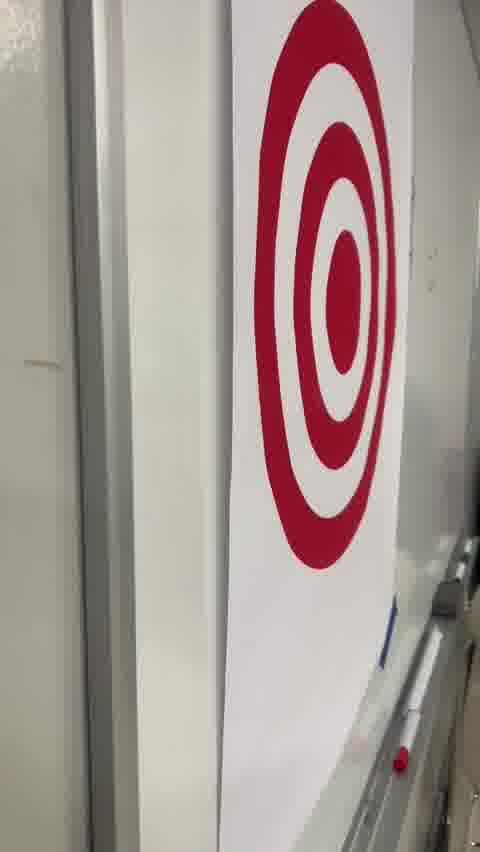target_red: (255, 0, 394, 575)
